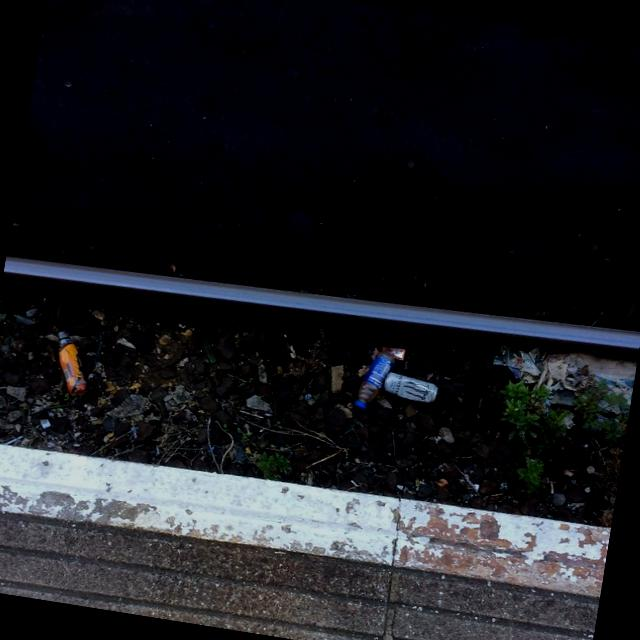Recycle: (358, 346, 393, 412), (380, 372, 441, 408)
Trash: (482, 342, 636, 414), (44, 325, 100, 400)
